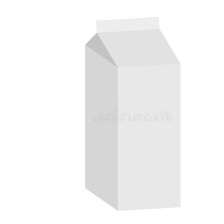carton: (75, 12, 193, 214)
